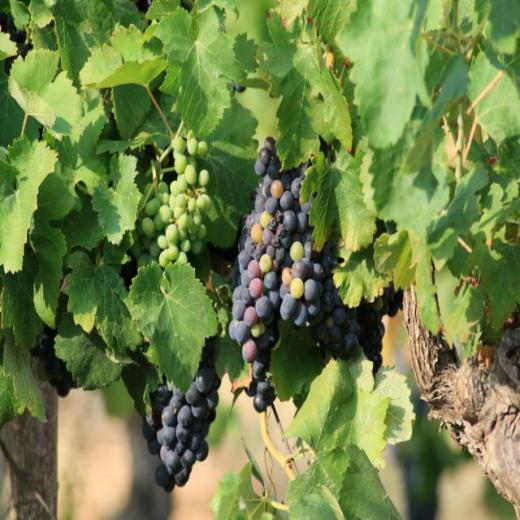Orange: (227, 138, 406, 414), (133, 135, 213, 267), (140, 367, 222, 493)
